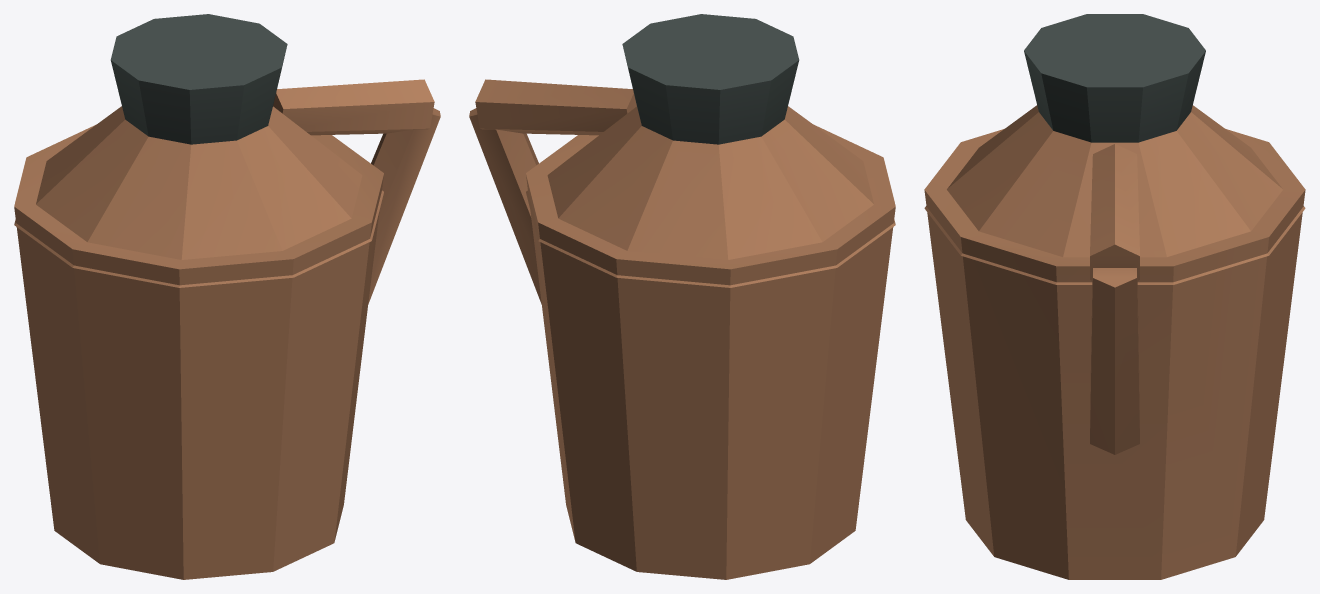
The model's file is jug.glb.
3 renders of one model, left to right at view 1: azimuth 30°, elevation 25°; view 2: azimuth 150°, elevation 25°; view 3: azimuth 270°, elevation 25°, orthographic.
Parts seen in each view (by area): view 1: jug; view 2: jug; view 3: jug.
Boxes of the visible parts, x1,y1,x2,y2 form: jug: (14, 14, 440, 579); jug: (469, 14, 895, 579); jug: (924, 14, 1305, 579).
Size of the model in its own units: 0.5567 by 0.625 by 0.46.
